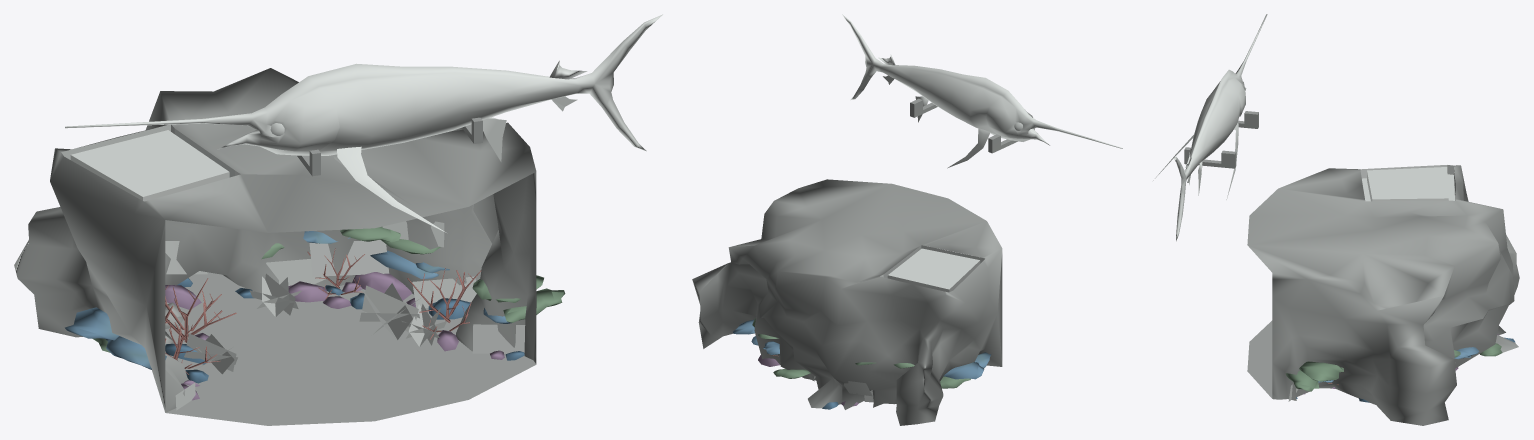
3 renders of one model, left to right at view 1: azimuth 30°, elevation 25°; view 2: azimuth 150°, elevation 25°; view 3: azimuth 270°, elevation 25°, orthographic. The views are drawn at different scales.
Parts seen in each view (by area): view 1: G:\FFXIV-MapTools\exports\s1f3\bg\ffxiv\sea_s1\fld\s1f3\bgpa (×6); view 2: G:\FFXIV-MapTools\exports\s1f3\bg\ffxiv\sea_s1\fld\s1f3\bgpa (×5); view 3: G:\FFXIV-MapTools\exports\s1f3\bg\ffxiv\sea_s1\fld\s1f3\bgpa (×5).
Part boxes in pixels (box(x1,y1,x2,y2)): G:\FFXIV-MapTools\exports\s1f3\bg\ffxiv\sea_s1\fld\s1f3\bgpa (×6): box(14, 14, 662, 425); G:\FFXIV-MapTools\exports\s1f3\bg\ffxiv\sea_s1\fld\s1f3\bgpa (×5): box(692, 14, 1122, 425); G:\FFXIV-MapTools\exports\s1f3\bg\ffxiv\sea_s1\fld\s1f3\bgpa (×5): box(1153, 14, 1519, 425).
Size of the model in its own units: 3.6 by 2.36 by 3.06.
